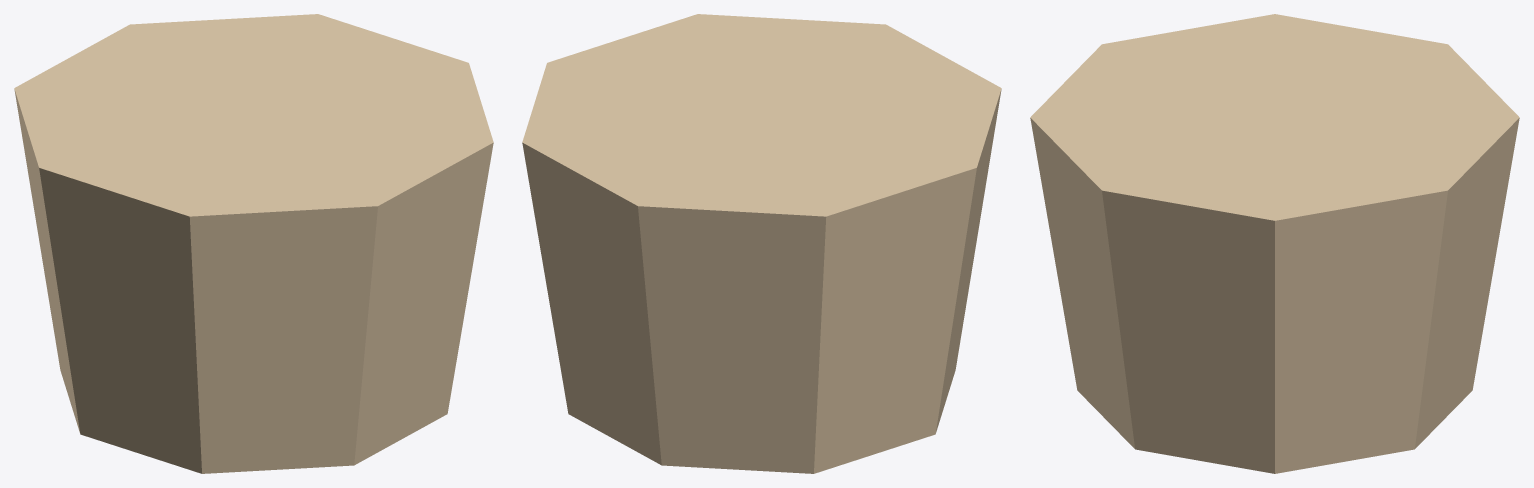
File: prop-bung-blank-bb1.fbx
The picture shows the model from 3 angles, left to right: view 1: azimuth 30°, elevation 25°; view 2: azimuth 150°, elevation 25°; view 3: azimuth 270°, elevation 25°; orthographic projection.
Parts seen in each view (by area): view 1: prop-bung-blank-bb1; view 2: prop-bung-blank-bb1; view 3: prop-bung-blank-bb1.
Boxes of the visible parts, left/top/right/bottom form: prop-bung-blank-bb1: left=14, top=14, right=493, bottom=473; prop-bung-blank-bb1: left=522, top=14, right=1001, bottom=473; prop-bung-blank-bb1: left=1030, top=14, right=1519, bottom=473.
Size of the model in its own units: 5.2 by 3.2 by 5.2.
